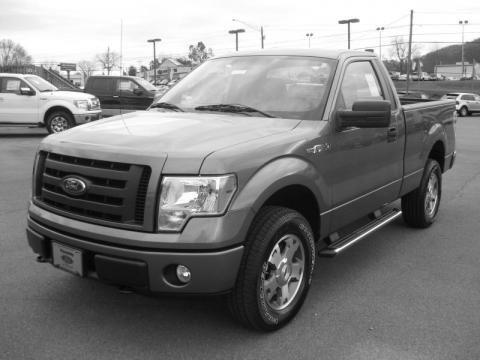car: (26, 48, 459, 335)
